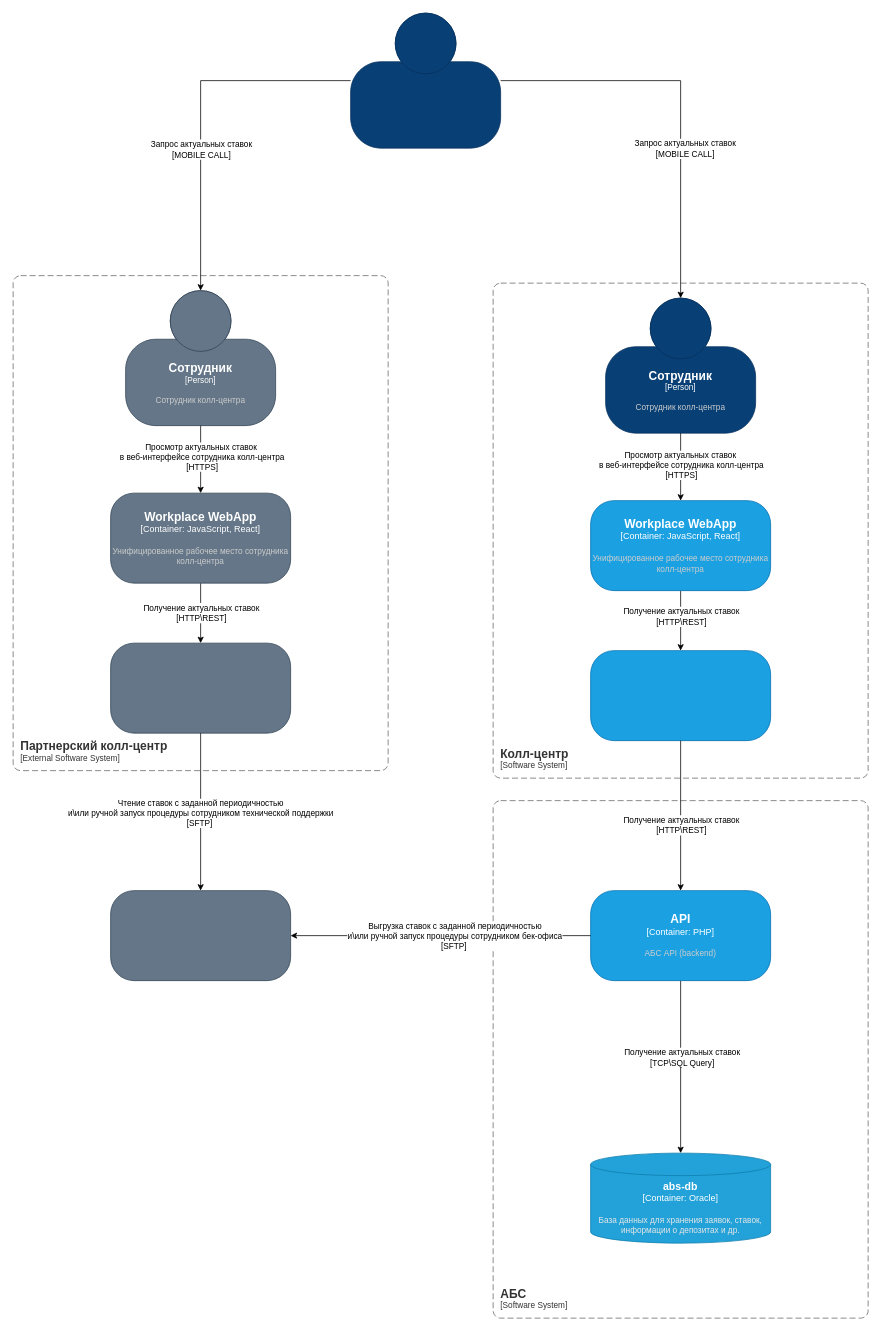
Image size: 881x1331. Some labels were removed from this diagram. The centre of each missing label's shape, as x and y in pixels:
Backend [Container: Java, Spring] API (backend) колл-центра: the point at 680,695
Backend [Container: Java, Spring] API (backend) партнерского колл-центра: the point at 200,687
FTP сервер [Container: Ubuntu] FTP сервер: the point at 200,935
Клиент [Person] Клиент: the point at 425,80
